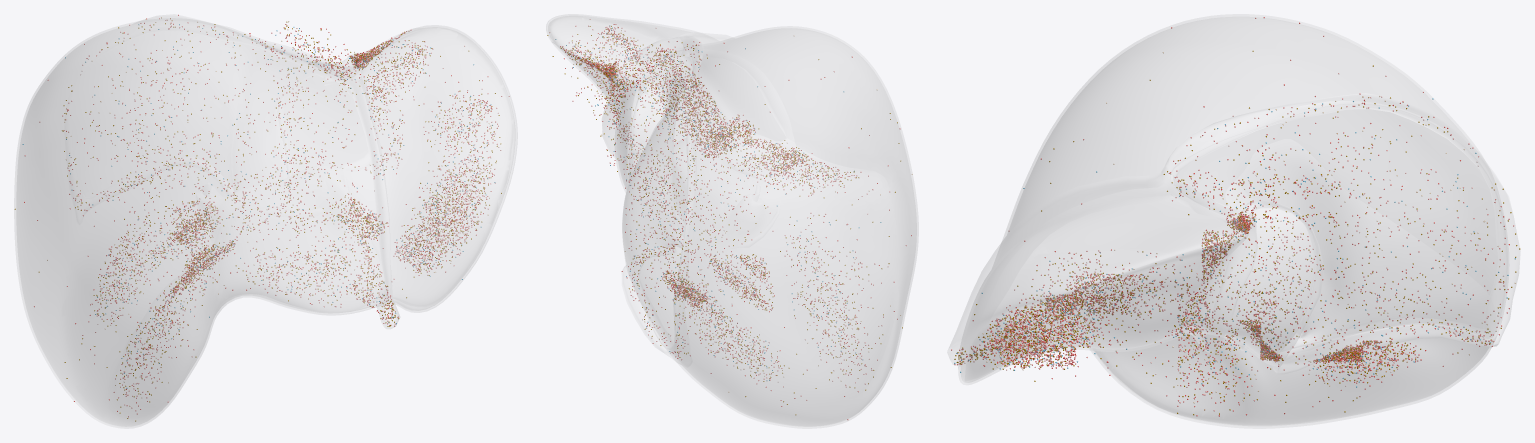
The model's file is 3d-vh-m-liver-UBERON_0002107-all-as-celltypist-sphere-hra-pop.glb.
3 renders of one model, left to right at view 1: azimuth 30°, elevation 25°; view 2: azimuth 150°, elevation 25°; view 3: azimuth 270°, elevation 25°, orthographic. The views are drawn at different scales.
Parts seen in each view (by area): view 1: VH_M_liver_capsule, VH_M_left_anterolateral_segment, VH_M_right_posterosuperior_segment, VH_M_left_posterolateral_segment, VH_M_right_posteroinferior_segment, VH_M_right_anteroinferior_segment, VH_M_coronary_ligament_of_liver; view 2: VH_M_liver_capsule, VH_M_right_anteroinferior_segment, VH_M_coronary_ligament_of_liver, VH_M_bare_area_of_liver, VH_M_right_posteroinferior_segment, VH_M_left_posterolateral_segment, VH_M_right_posterosuperior_segment, VH_M_ligamentum_venosum, VH_M_falciform_ligament, VH_M_right_anterosuperior_segment; view 3: VH_M_liver_capsule, VH_M_right_posterosuperior_segment, VH_M_coronary_ligament_of_liver, VH_M_right_anterosuperior_segment, VH_M_falciform_ligament, VH_M_ligamentum_venosum, VH_M_left_anterolateral_segment.
Part boxes in pixels (x1,y1,x2,y2): VH_M_liver_capsule: (14,18,517,428); VH_M_left_anterolateral_segment: (387,171,508,306); VH_M_right_posterosuperior_segment: (18,22,150,170); VH_M_left_posterolateral_segment: (372,28,513,170); VH_M_right_posteroinferior_segment: (17,175,55,371); VH_M_right_anteroinferior_segment: (69,220,225,424); VH_M_coronary_ligament_of_liver: (135,14,361,78); VH_M_liver_capsule: (546,14,918,428); VH_M_right_anteroinferior_segment: (835,145,915,422); VH_M_coronary_ligament_of_liver: (622,36,702,365); VH_M_bare_area_of_liver: (625,93,686,281); VH_M_right_posteroinferior_segment: (648,312,825,425); VH_M_left_posterolateral_segment: (550,17,689,50); VH_M_right_posterosuperior_segment: (623,158,644,288); VH_M_ligamentum_venosum: (602,82,617,160); VH_M_falciform_ligament: (679,33,734,56); VH_M_right_anterosuperior_segment: (839,42,896,121); VH_M_liver_capsule: (958,14,1508,428); VH_M_right_posterosuperior_segment: (1308,28,1497,255); VH_M_coronary_ligament_of_liver: (1162,94,1520,373); VH_M_right_anterosuperior_segment: (1104,17,1309,102); VH_M_falciform_ligament: (949,172,1162,347); VH_M_ligamentum_venosum: (1191,222,1257,352); VH_M_left_anterolateral_segment: (961,271,995,379).
Bounding box in the file's own units: 0.1914 × 0.1746 × 0.2018.
